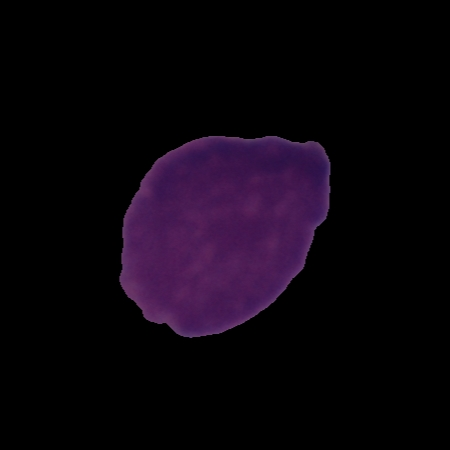ALL: (115, 130, 334, 343)
